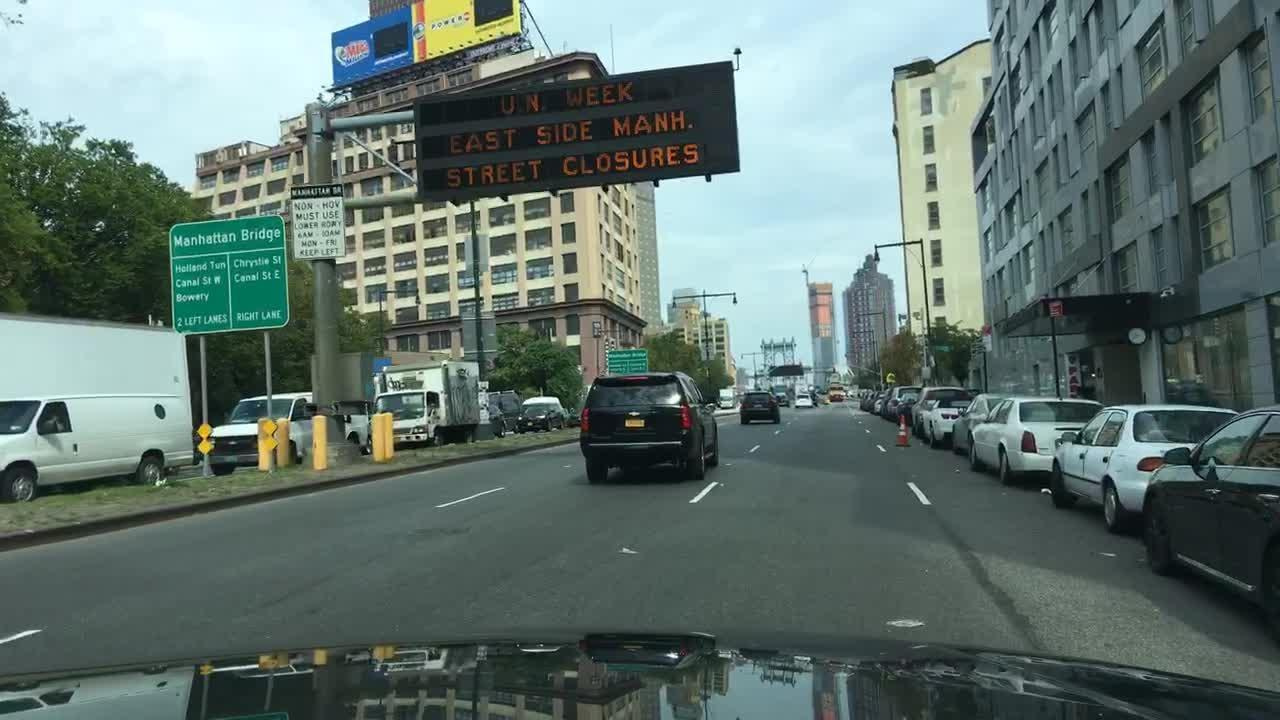chevrolet: (624, 408, 643, 418)
